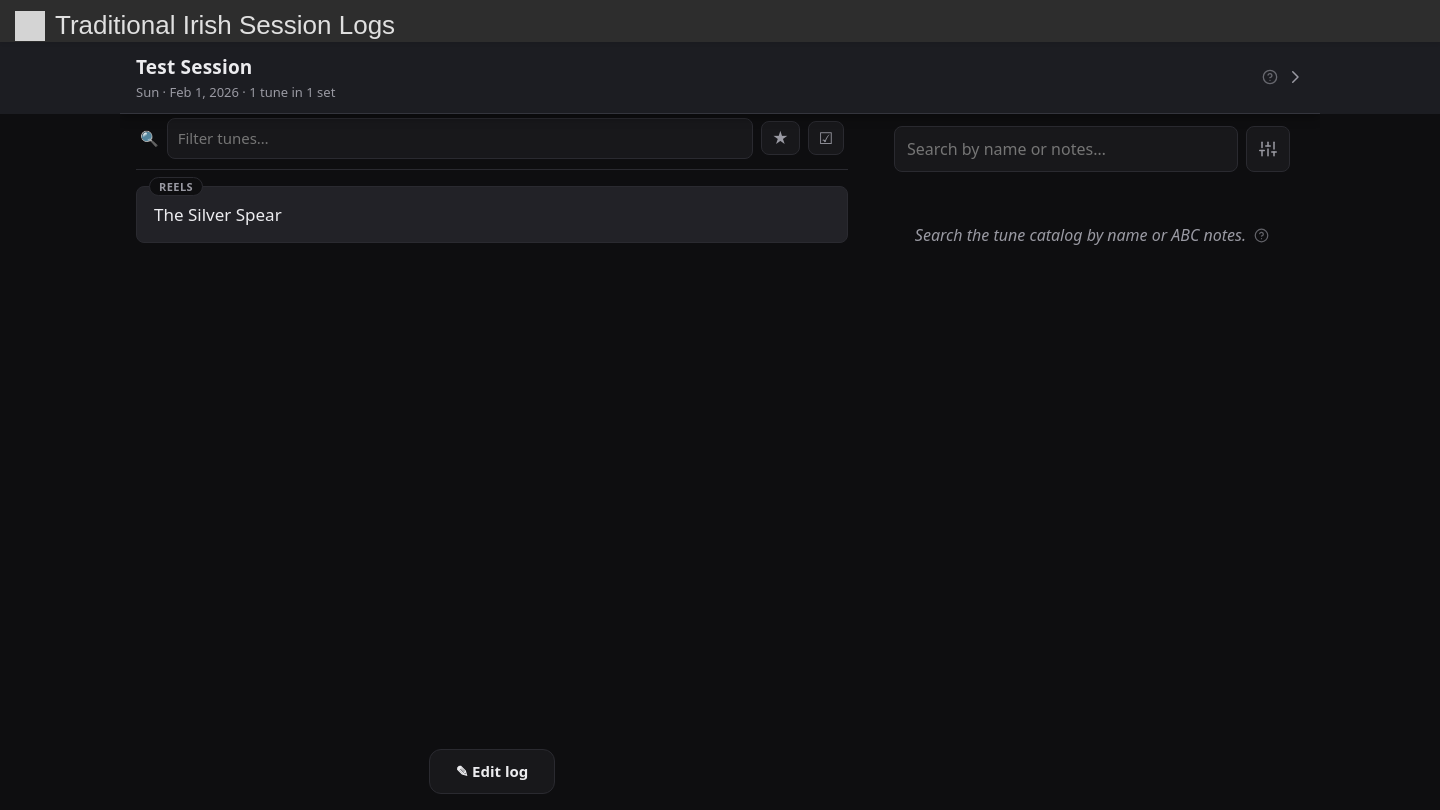
header honours the per-session people flags (spec 039) › drops the attendance row and Manage when track_attendance is off
Expected: the number of buttons with class "tune-row" is 1, x1=154 y1=203 x2=282 y2=226
Click the button with class "topbar-row" at (194, 67), box x1=136 y1=54 x2=1304 y2=101
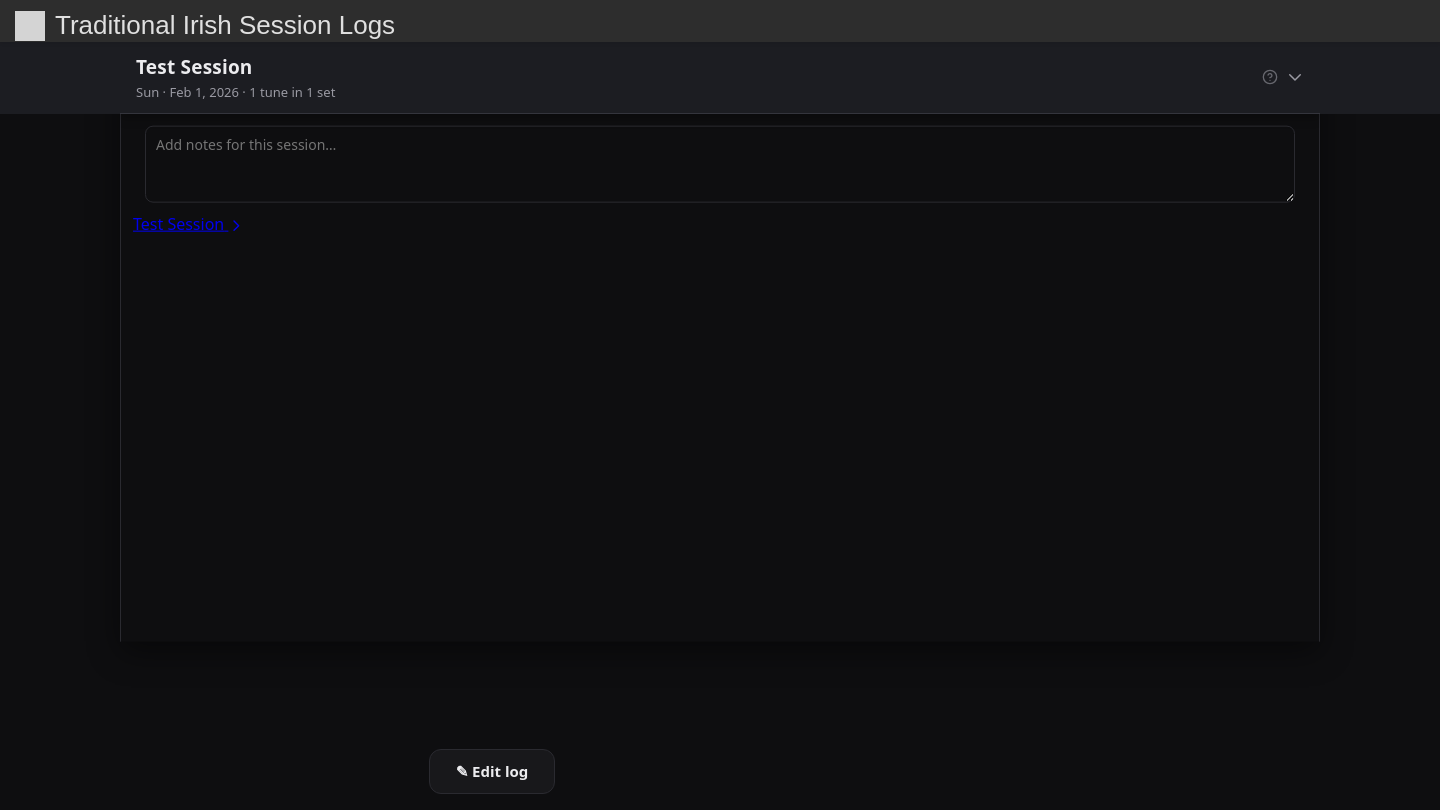
Expected: the element with class "kit-field" is shown, x1=133 y1=120 x2=350 y2=142
Expected: the element that starts with "Date" shows "Change", x1=173 y1=124 x2=220 y2=142
